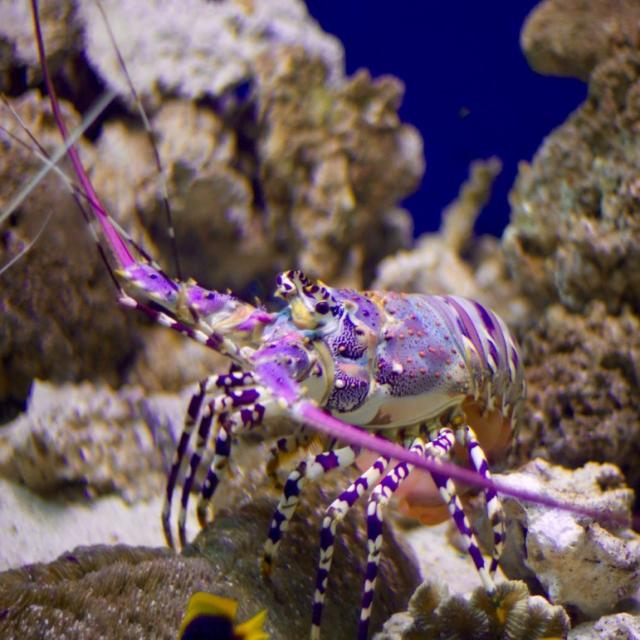lobsters: (41, 62, 596, 549)
